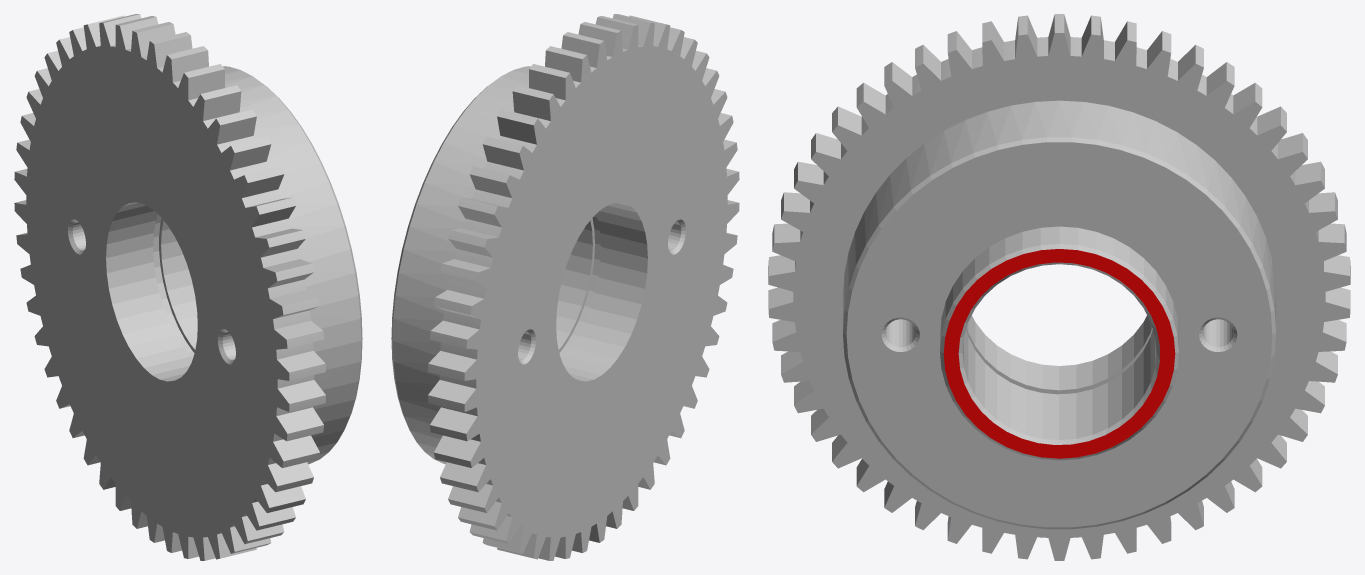
Rendered from 963508_RW44_IT66_stp_213.obj.
The picture shows the model from 3 angles, left to right: view 1: azimuth 30°, elevation 25°; view 2: azimuth 150°, elevation 25°; view 3: azimuth 270°, elevation 25°; orthographic projection. The views are drawn at different scales.
Parts seen in each view (by area): view 1: Object1; view 2: Object1; view 3: Object1.
Boxes of the visible parts, left/top/right/bottom form: Object1: left=14, top=14, right=362, bottom=560; Object1: left=391, top=14, right=739, bottom=560; Object1: left=768, top=14, right=1350, bottom=560.
Bounding box in the file's own units: 24 × 78 × 77.92.
